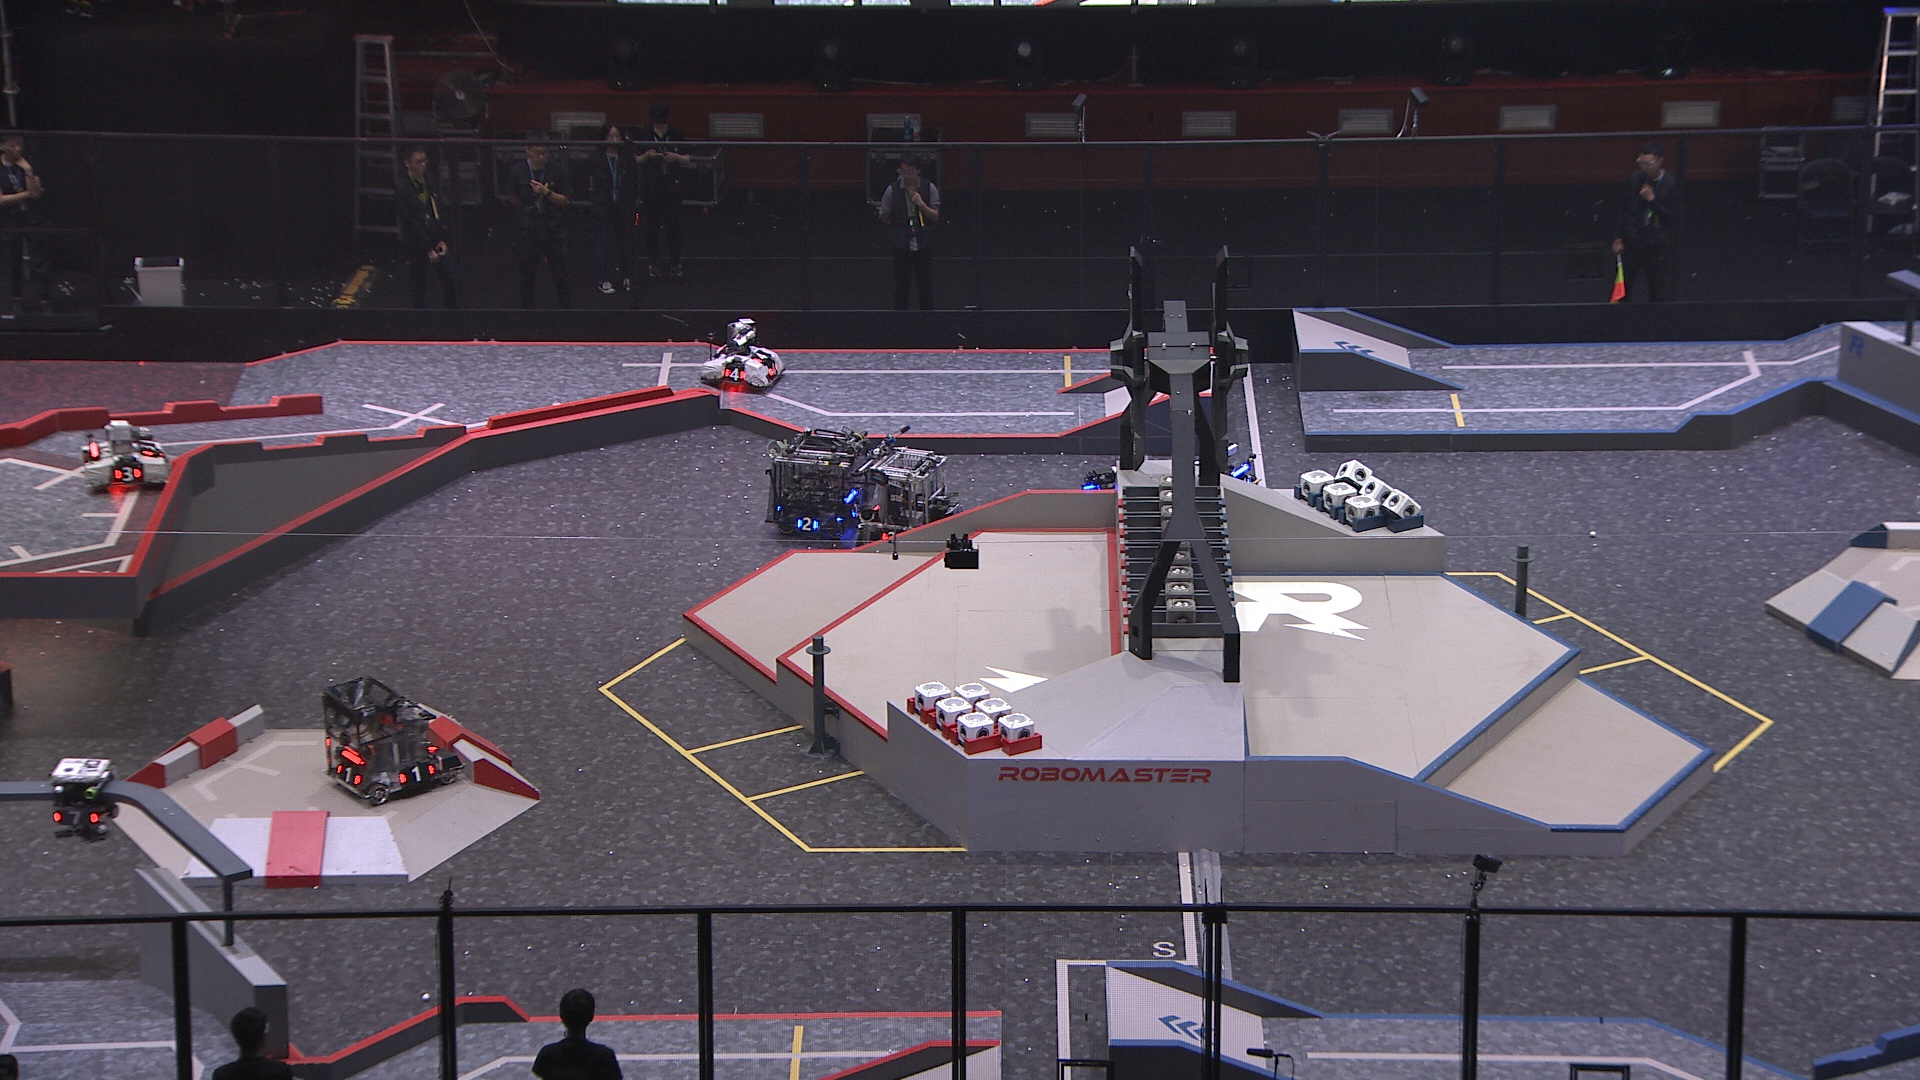armor: (49, 808, 98, 828), (396, 765, 436, 785), (334, 761, 363, 787), (112, 465, 141, 485), (796, 514, 818, 533), (723, 367, 746, 381), (138, 442, 160, 458), (752, 349, 771, 365), (849, 500, 862, 520), (767, 363, 782, 378)
car: (319, 675, 465, 806), (764, 427, 873, 545), (851, 444, 960, 556), (78, 415, 174, 493), (702, 316, 787, 396), (1179, 439, 1261, 496), (1077, 463, 1159, 520)
watcher: (46, 757, 123, 844)
